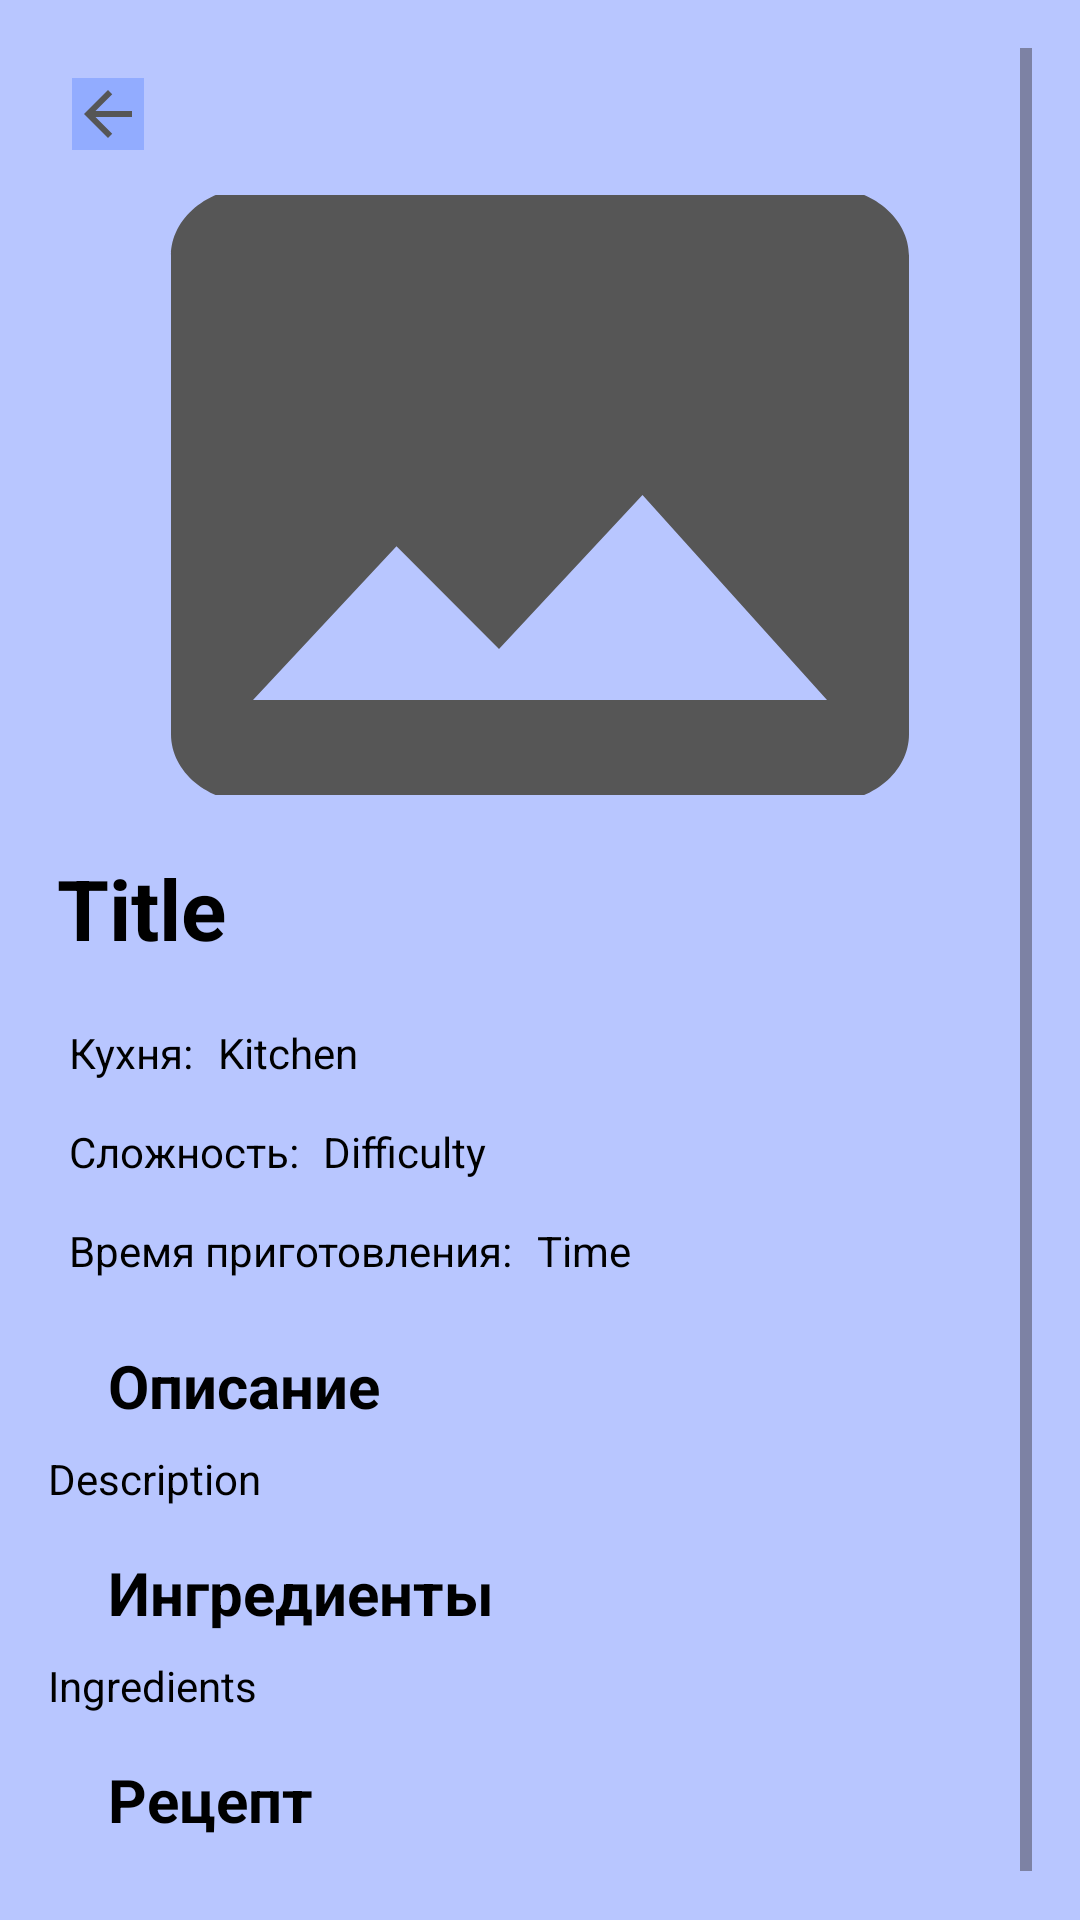

Icon bounding boxes for this 1080w x 1920h phone screenshot, format (x1, y1, x2, y2):
arrow back: (72, 78, 144, 150)
